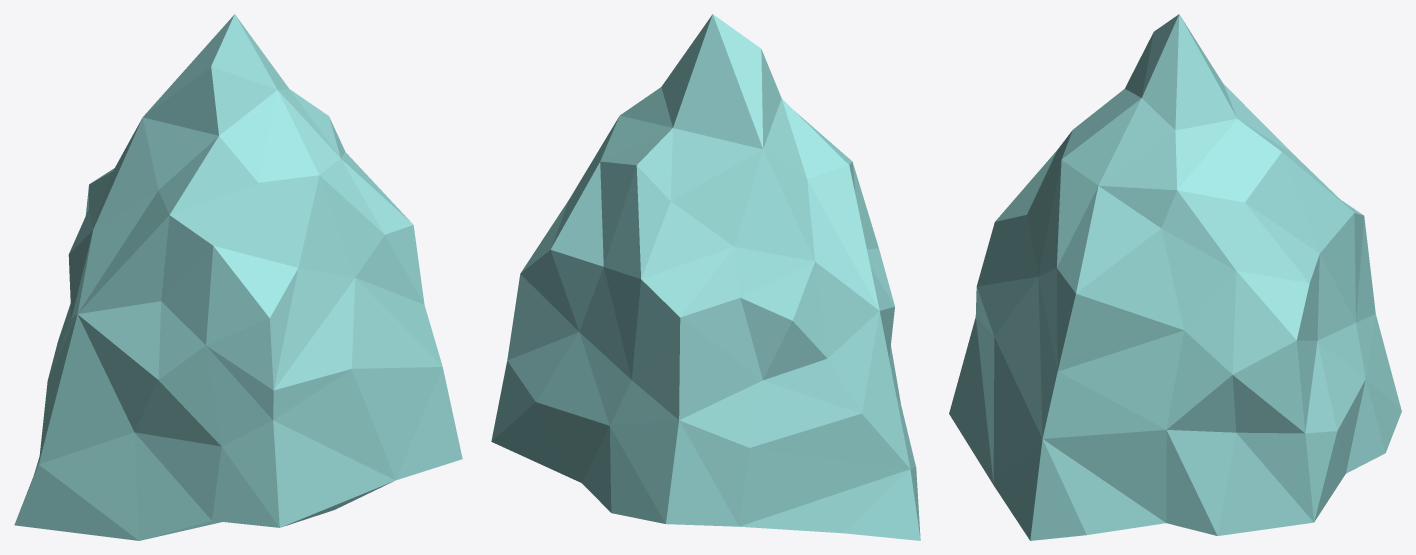
Rendered from Ice.gltf.
3 views of the same model, side by side, from view 1: azimuth 30°, elevation 25°; view 2: azimuth 150°, elevation 25°; view 3: azimuth 270°, elevation 25° (orthographic). The views are drawn at different scales.
Parts seen in each view (by area): view 1: Ice; view 2: Ice; view 3: Ice.
Boxes of the visible parts, x1=… form: Ice: x1=14, y1=14, x2=462, y2=540; Ice: x1=491, y1=14, x2=920, y2=540; Ice: x1=949, y1=14, x2=1401, y2=540.
Size of the model in its own units: 3.95 by 4.79 by 3.96.
